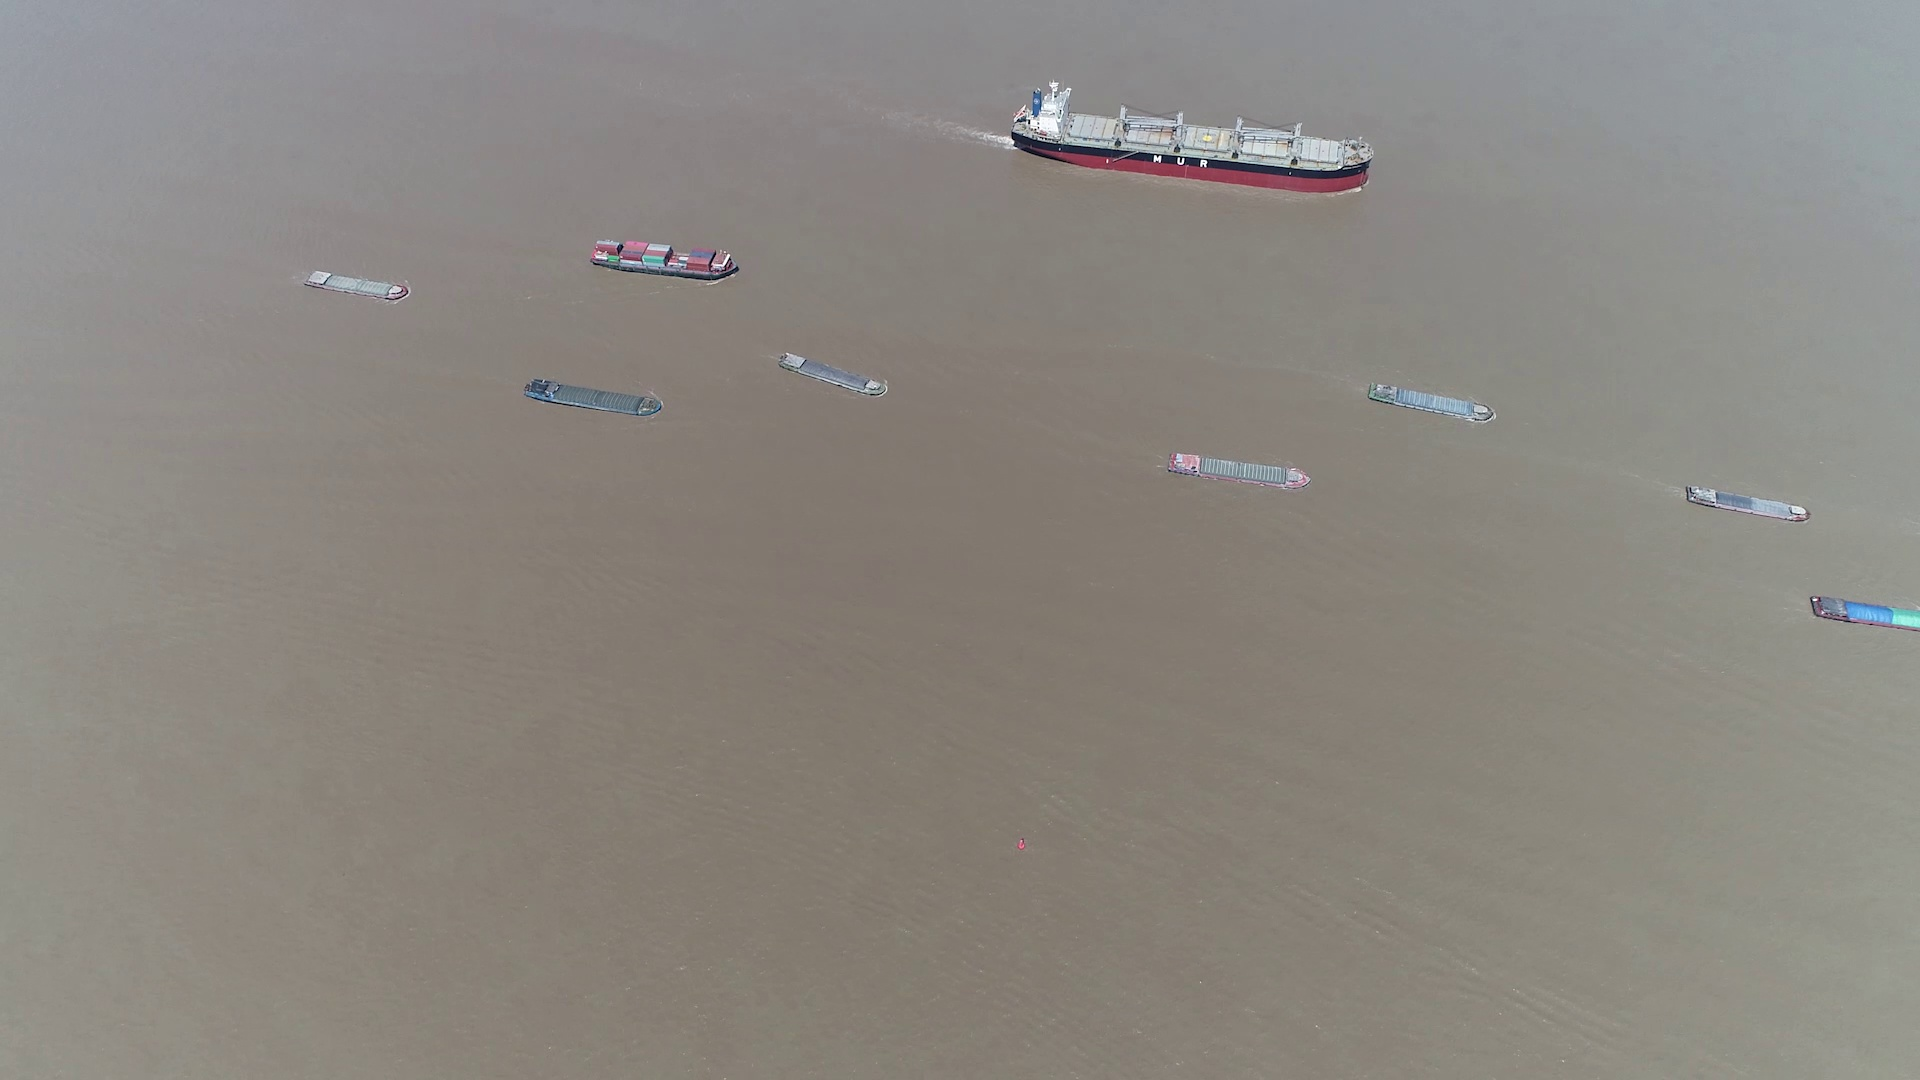ship: (1011, 87, 1369, 191), (589, 239, 741, 280), (1163, 448, 1311, 489), (1684, 483, 1811, 525), (1370, 381, 1497, 423), (524, 378, 659, 417), (778, 353, 889, 398), (1809, 593, 1920, 632), (303, 269, 409, 301)
